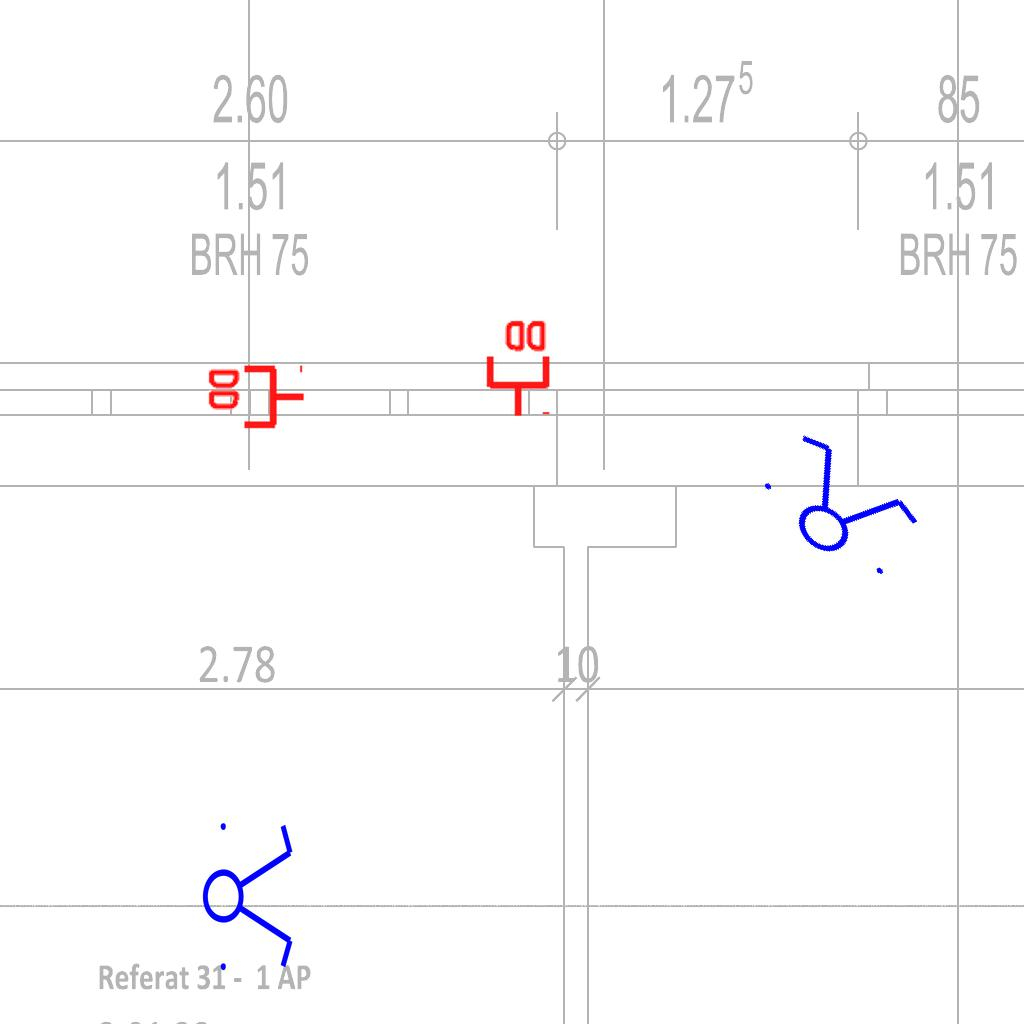Datenanschluss_zweifach: (482, 316, 551, 419), (204, 364, 307, 433)
Serienschalter: (742, 418, 934, 596), (201, 811, 297, 979)
